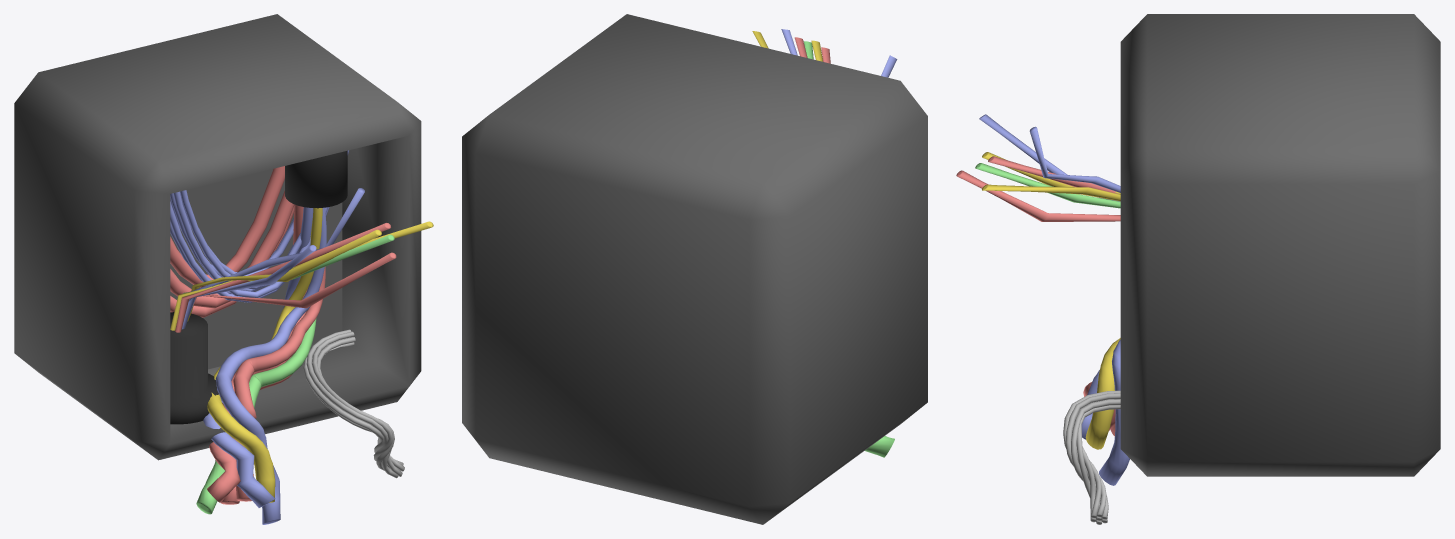
The model's file is wirebox.fbx.
3 views of the same model, side by side, from view 1: azimuth 30°, elevation 25°; view 2: azimuth 150°, elevation 25°; view 3: azimuth 270°, elevation 25° (orthographic). The views are drawn at different scales.
Visible parts, largest first — view 1: Cube.003, BézierCurve.010, BézierCurve.002, BézierCurve.003, Cylinder, BézierCurve.004, BézierCurve.009, Cylinder.001; view 2: Cube.003, BézierCurve.002; view 3: Cube.003, BézierCurve.002, BézierCurve.010, BézierCurve.009.
Boxes of the visible parts, left/top/right/bottom form: Cube.003: left=14, top=14, right=421, bottom=460; BézierCurve.010: left=196, top=204, right=326, bottom=524; BézierCurve.002: left=170, top=188, right=433, bottom=332; BézierCurve.003: left=170, top=166, right=294, bottom=317; Cylinder: left=170, top=312, right=218, bottom=424; BézierCurve.004: left=170, top=150, right=349, bottom=302; BézierCurve.009: left=303, top=329, right=404, bottom=478; Cylinder.001: left=285, top=150, right=347, bottom=208; Cube.003: left=462, top=14, right=927, bottom=524; BézierCurve.002: left=752, top=29, right=897, bottom=77; Cube.003: left=1120, top=14, right=1440, bottom=476; BézierCurve.002: left=956, top=114, right=1120, bottom=221; BézierCurve.010: left=1081, top=338, right=1129, bottom=485; BézierCurve.009: left=1063, top=390, right=1120, bottom=524.
Size of the model in its own units: 23.06 by 28.97 by 30.37.
